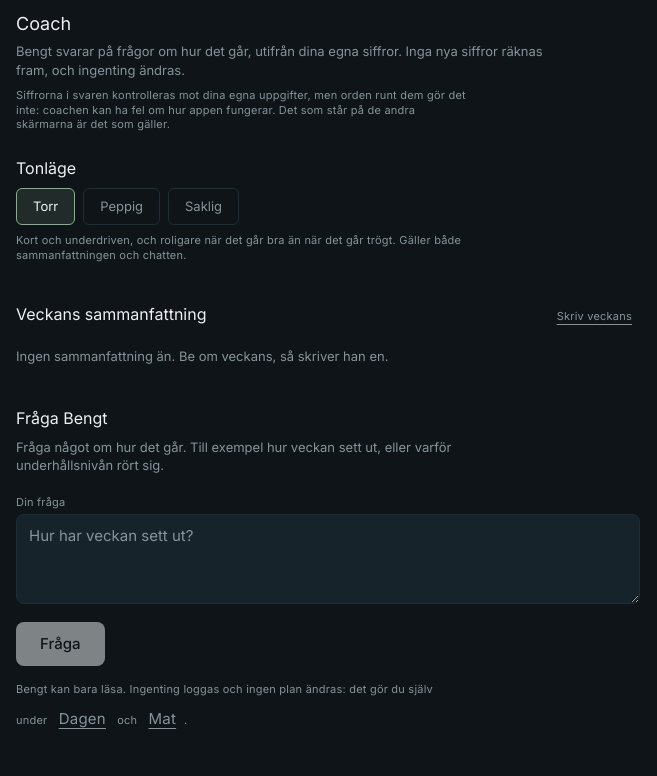
Test: asking the coach › says the coach is busy rather than spinning
Type "Hur går det?" into the text box with test id "coach-question".
click(328, 559); type("Hur går det?")  # box 16,514 -> 640,604
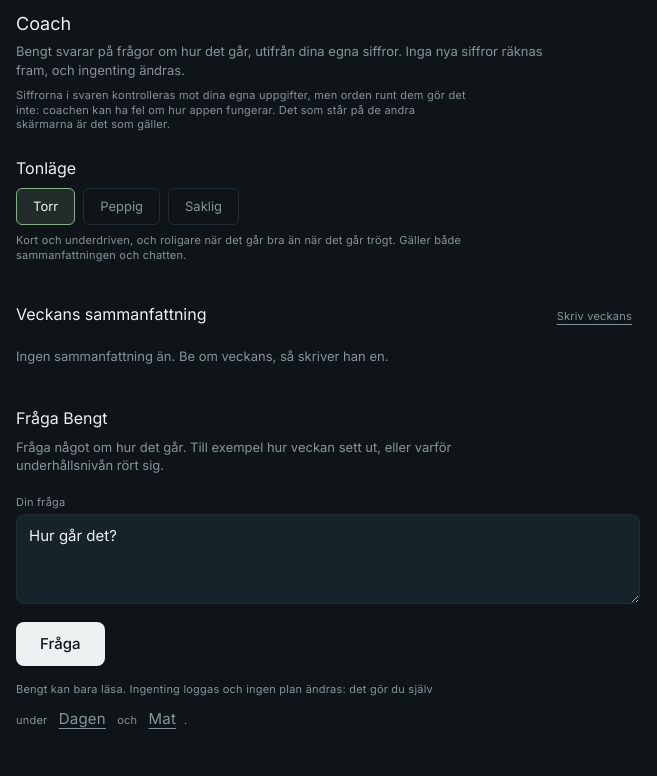
Click the button with test id "coach-send".
click(60, 644)  # box 16,622 -> 104,666
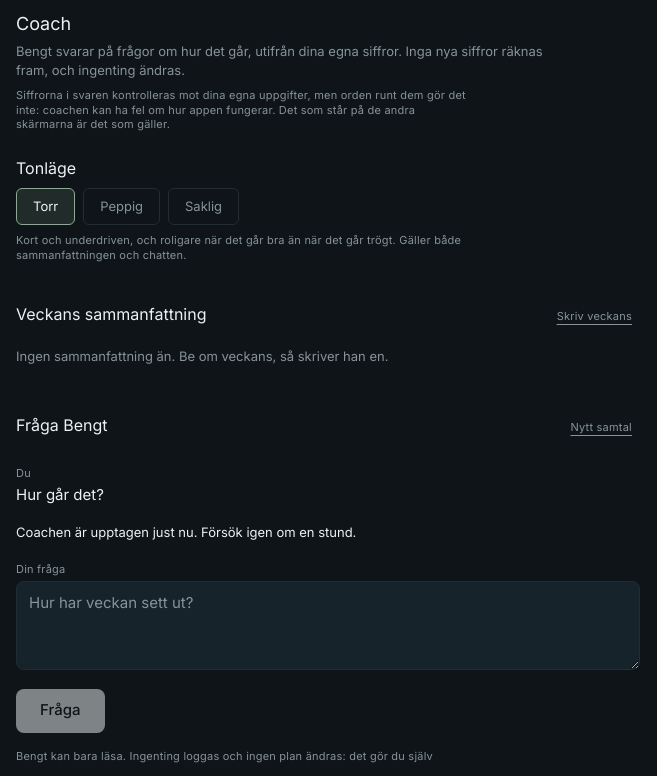
Expected: the message with test id "coach-notice" shows "upptagen", 16,524 -> 356,540
